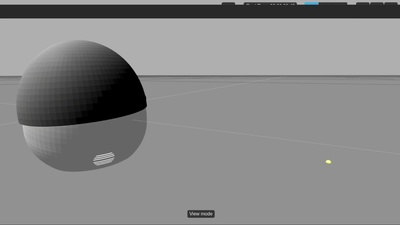mira_robot: (16, 41, 149, 172)
